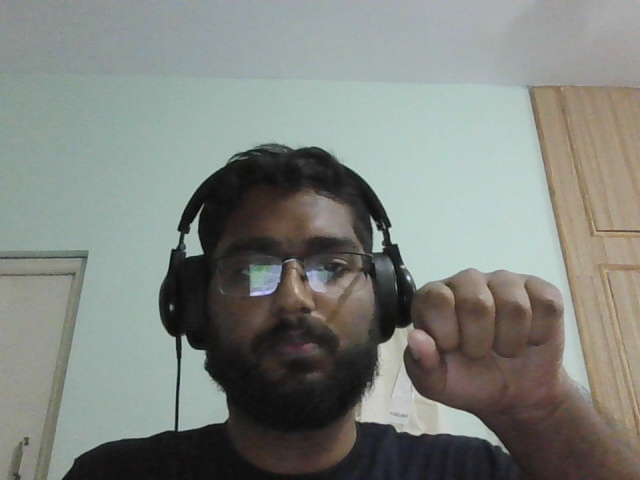Yes: (400, 262, 597, 432)
